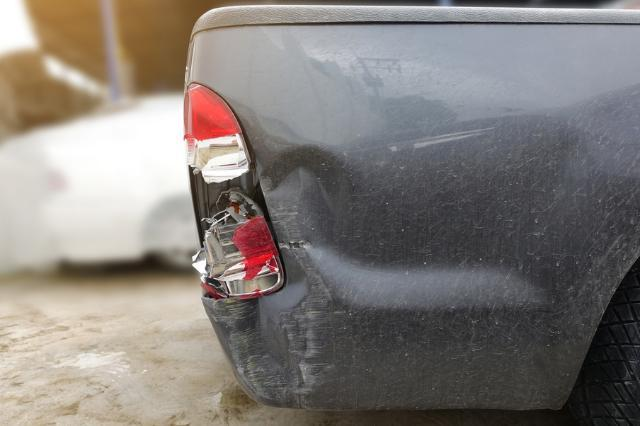Light: (181, 82, 285, 300)
